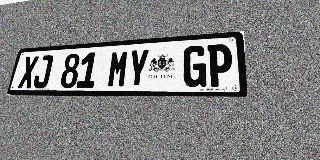1: (76, 52, 99, 88)
8: (59, 53, 82, 88)
G: (183, 45, 207, 87)
J: (32, 55, 54, 88)
M: (106, 50, 130, 88)
P: (207, 43, 233, 87)
X: (17, 56, 39, 88)
Y: (126, 49, 150, 88)
